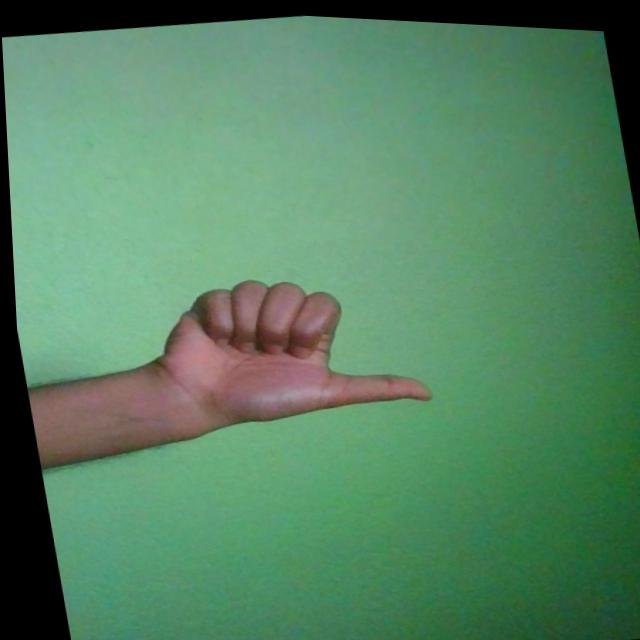Good Job: (133, 252, 431, 439)
